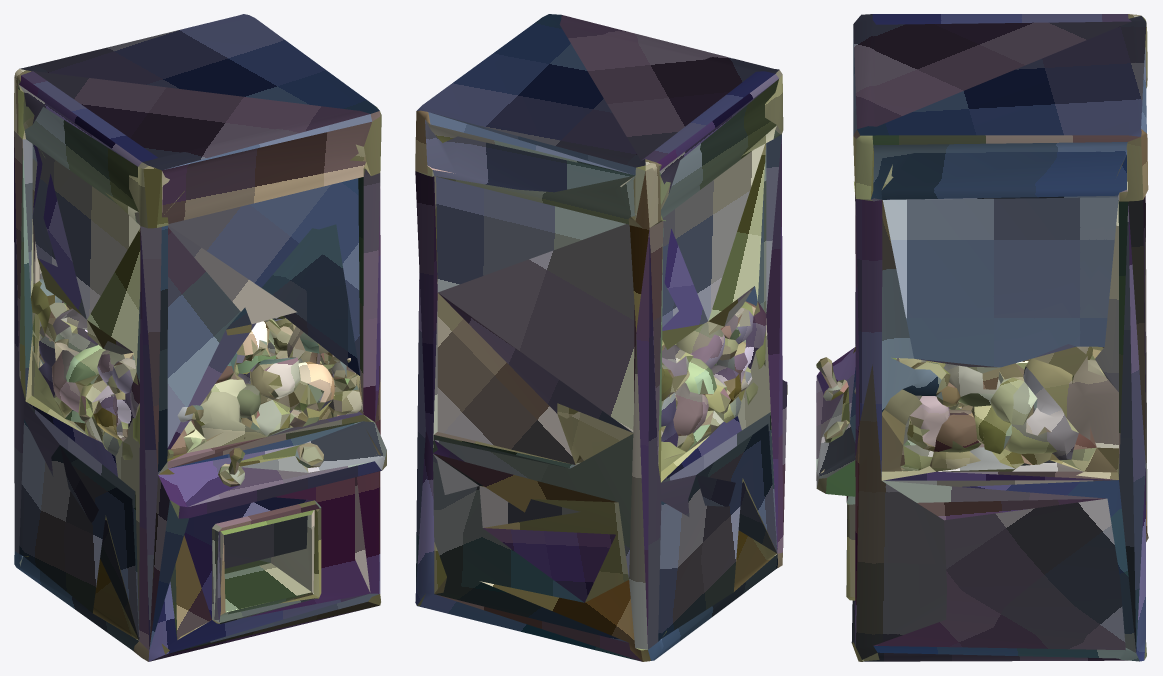
The model's file is claw2.glb.
3 renders of one model, left to right at view 1: azimuth 30°, elevation 25°; view 2: azimuth 150°, elevation 25°; view 3: azimuth 270°, elevation 25°, orthographic. The views are drawn at different scales.
Visible parts, largest first — view 1: Mesh_0; view 2: Mesh_0; view 3: Mesh_0.
Part boxes in pixels (x1,y1,x2,y2): Mesh_0: [14, 14, 386, 661]; Mesh_0: [415, 14, 787, 661]; Mesh_0: [816, 14, 1148, 661].
Size of the model in its own units: 0.984 by 1.9 by 1.08.
Materials: 1 (1 with a texture image).
